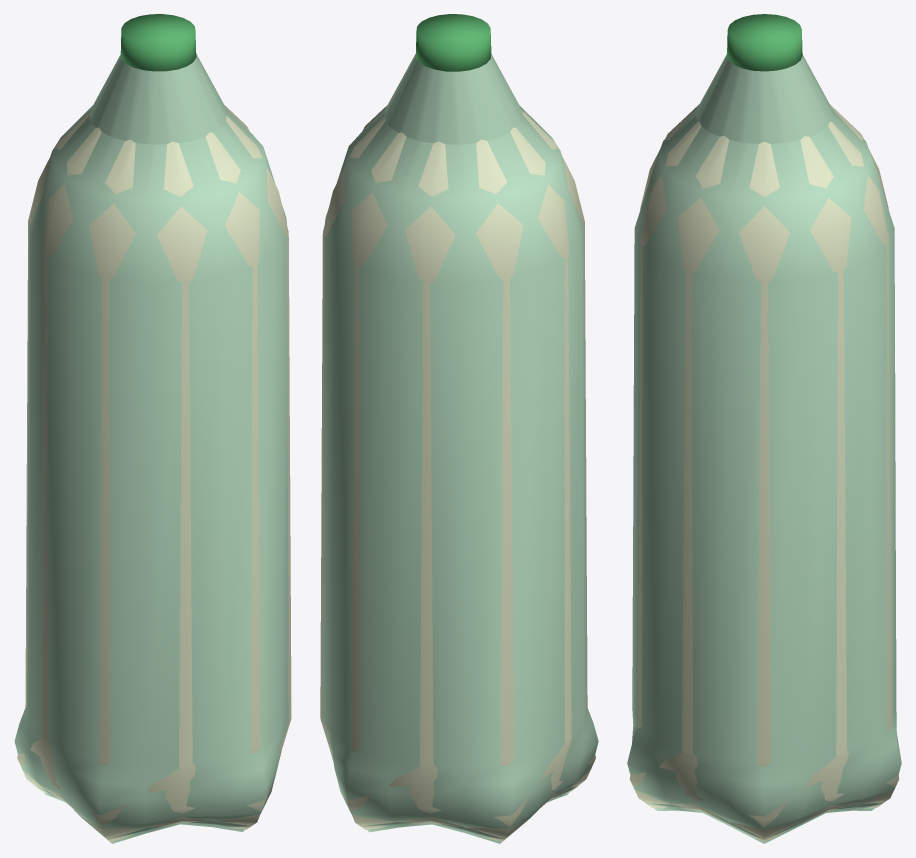
File: bottle_pet2l_lod2.glb
3 renders of one model, left to right at view 1: azimuth 30°, elevation 25°; view 2: azimuth 150°, elevation 25°; view 3: azimuth 270°, elevation 25°, orthographic.
Visible parts, largest first — view 1: Glass, Liquid, Cap; view 2: Glass, Liquid, Cap; view 3: Glass, Liquid, Cap.
Boxes of the visible parts, x1,y1,x2,y2 form: Glass: [14, 54, 288, 843]; Liquid: [17, 105, 291, 841]; Cap: [120, 14, 196, 71]; Glass: [323, 53, 598, 843]; Liquid: [320, 105, 595, 841]; Cap: [415, 14, 491, 71]; Glass: [627, 54, 901, 843]; Liquid: [629, 104, 899, 842]; Cap: [727, 14, 802, 71].
Bounding box in the file's own units: 0.1105 × 0.3369 × 0.1092.
